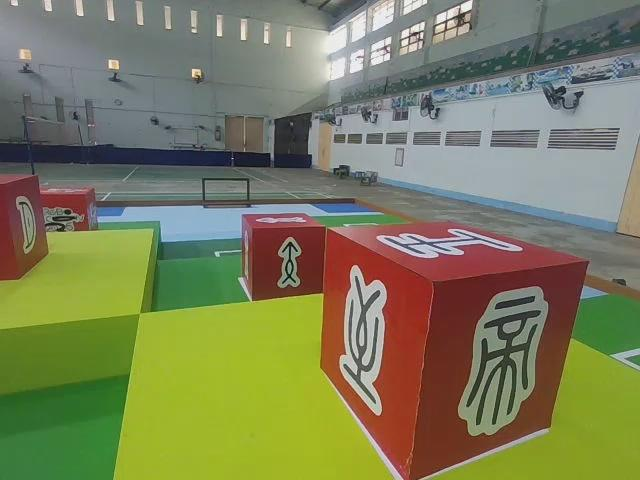R1: (39, 185, 101, 241)
R2 Fake: (321, 222, 591, 480)
R2 Real: (240, 209, 325, 301), (0, 172, 52, 280)
